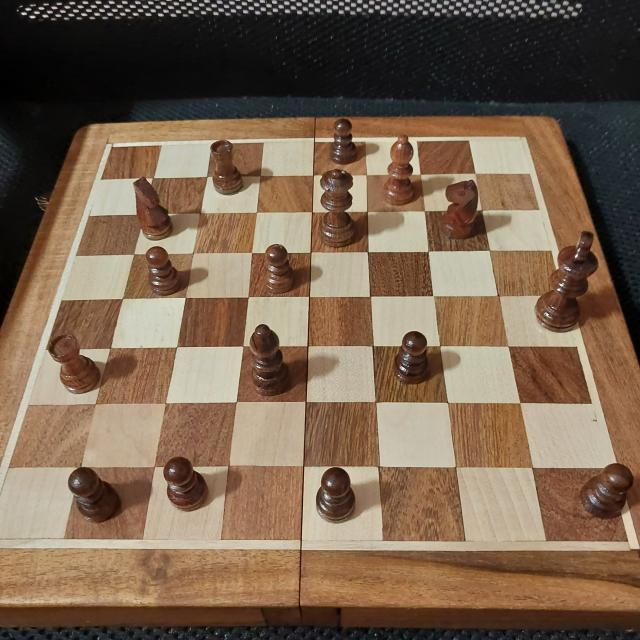black-camel: (243, 321, 294, 398), (378, 128, 421, 214)
black-elephant: (45, 337, 98, 400), (202, 142, 249, 197)
black-horse: (128, 174, 170, 236), (444, 179, 482, 242)
black-king: (532, 215, 602, 336)
black-pawn: (580, 445, 635, 525), (58, 468, 122, 530), (390, 330, 434, 390), (160, 453, 206, 510), (313, 463, 356, 521), (141, 244, 179, 291), (260, 246, 296, 292), (328, 115, 359, 161)
black-queen: (316, 174, 364, 248)
